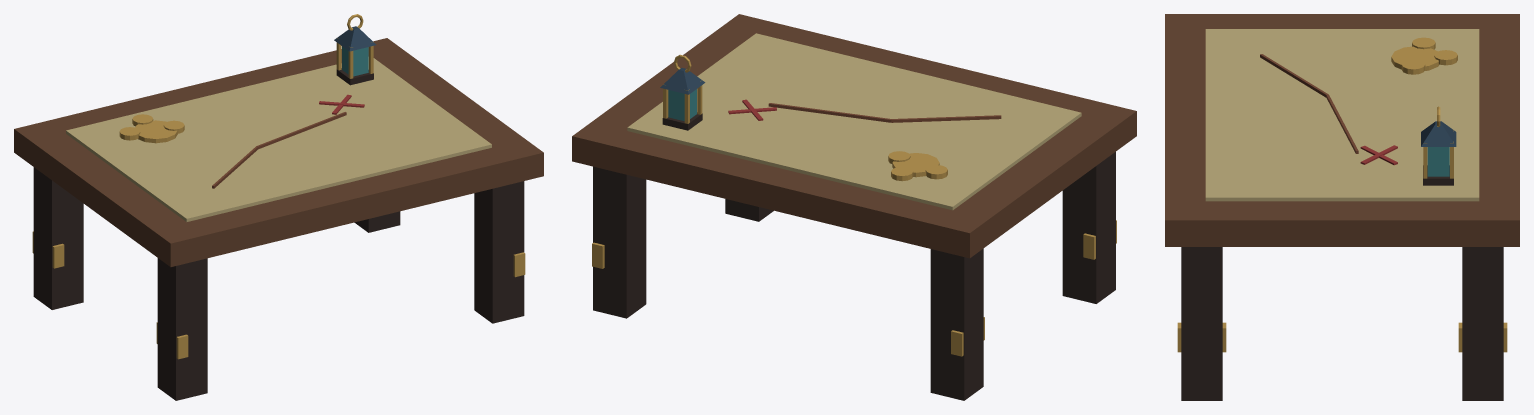
The model's file is PirateCove_MapTableTunnel_Showcase.glb.
The picture shows the model from 3 angles, left to right: view 1: azimuth 30°, elevation 25°; view 2: azimuth 150°, elevation 25°; view 3: azimuth 270°, elevation 25°; orthographic projection. The views are drawn at different scales.
Visible parts, largest first — view 1: PirateCove_MapTableTunnel_Showcase; view 2: PirateCove_MapTableTunnel_Showcase; view 3: PirateCove_MapTableTunnel_Showcase.
Part boxes in pixels (bbox=[...]): PirateCove_MapTableTunnel_Showcase: bbox=[14, 14, 543, 400]; PirateCove_MapTableTunnel_Showcase: bbox=[572, 14, 1136, 400]; PirateCove_MapTableTunnel_Showcase: bbox=[1165, 14, 1519, 400].
Bounding box in the file's own units: 3.3 × 1.96 × 2.4.
